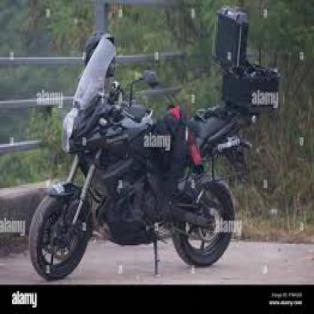Motocicleta: (27, 8, 284, 286)
